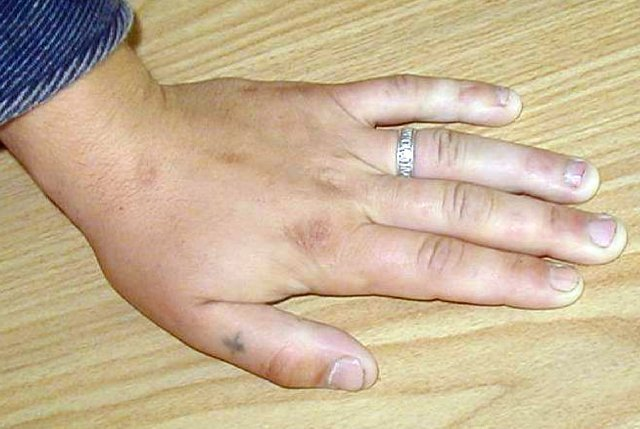tatu9_krest: (220, 330, 252, 354)
